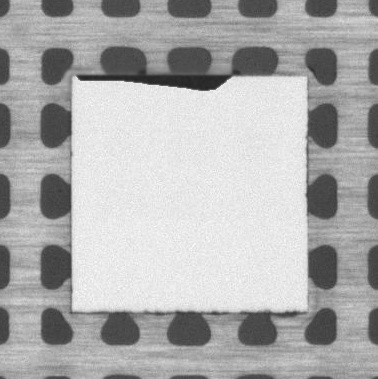DIE_BROKEN: (76, 69, 235, 91)
